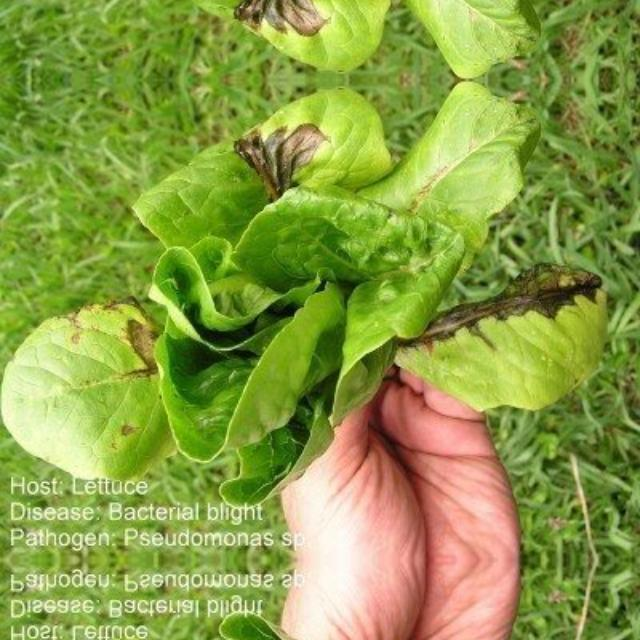Lettuce - Anthracnose: (8, 82, 608, 412), (7, 0, 608, 78), (367, 242, 627, 418), (16, 292, 170, 474), (212, 80, 404, 212), (212, 0, 403, 80)
